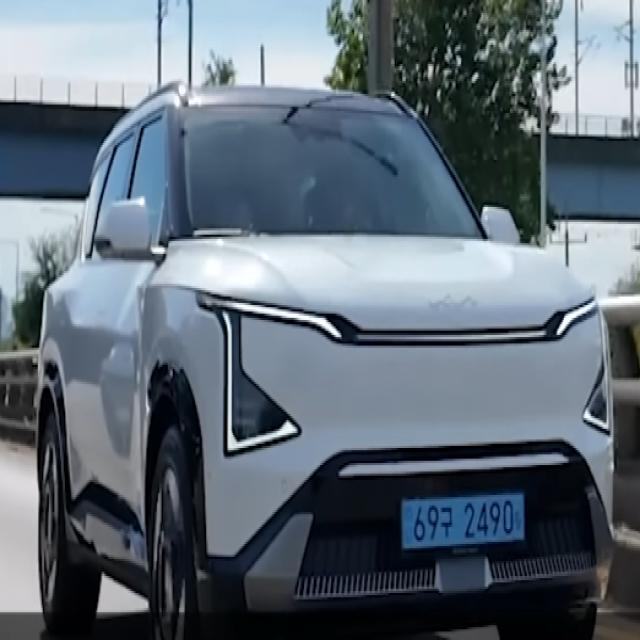car: (388, 470, 543, 572)
carev: (401, 494, 415, 553), (513, 492, 528, 545)
